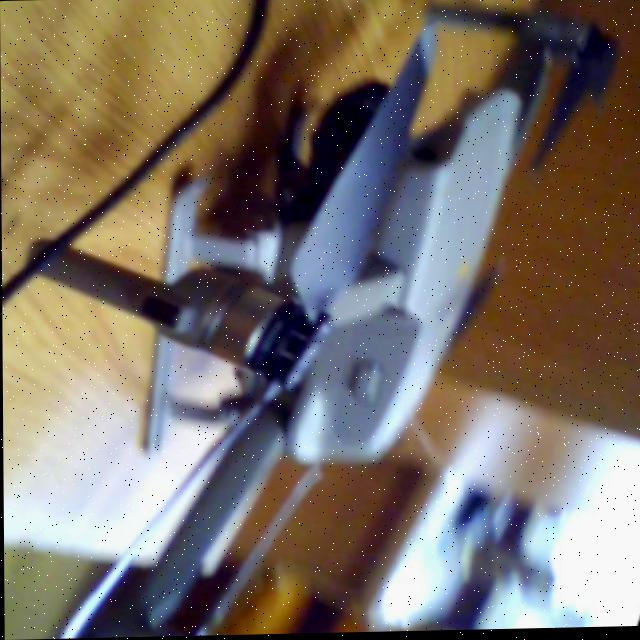drone: (72, 0, 592, 639)
